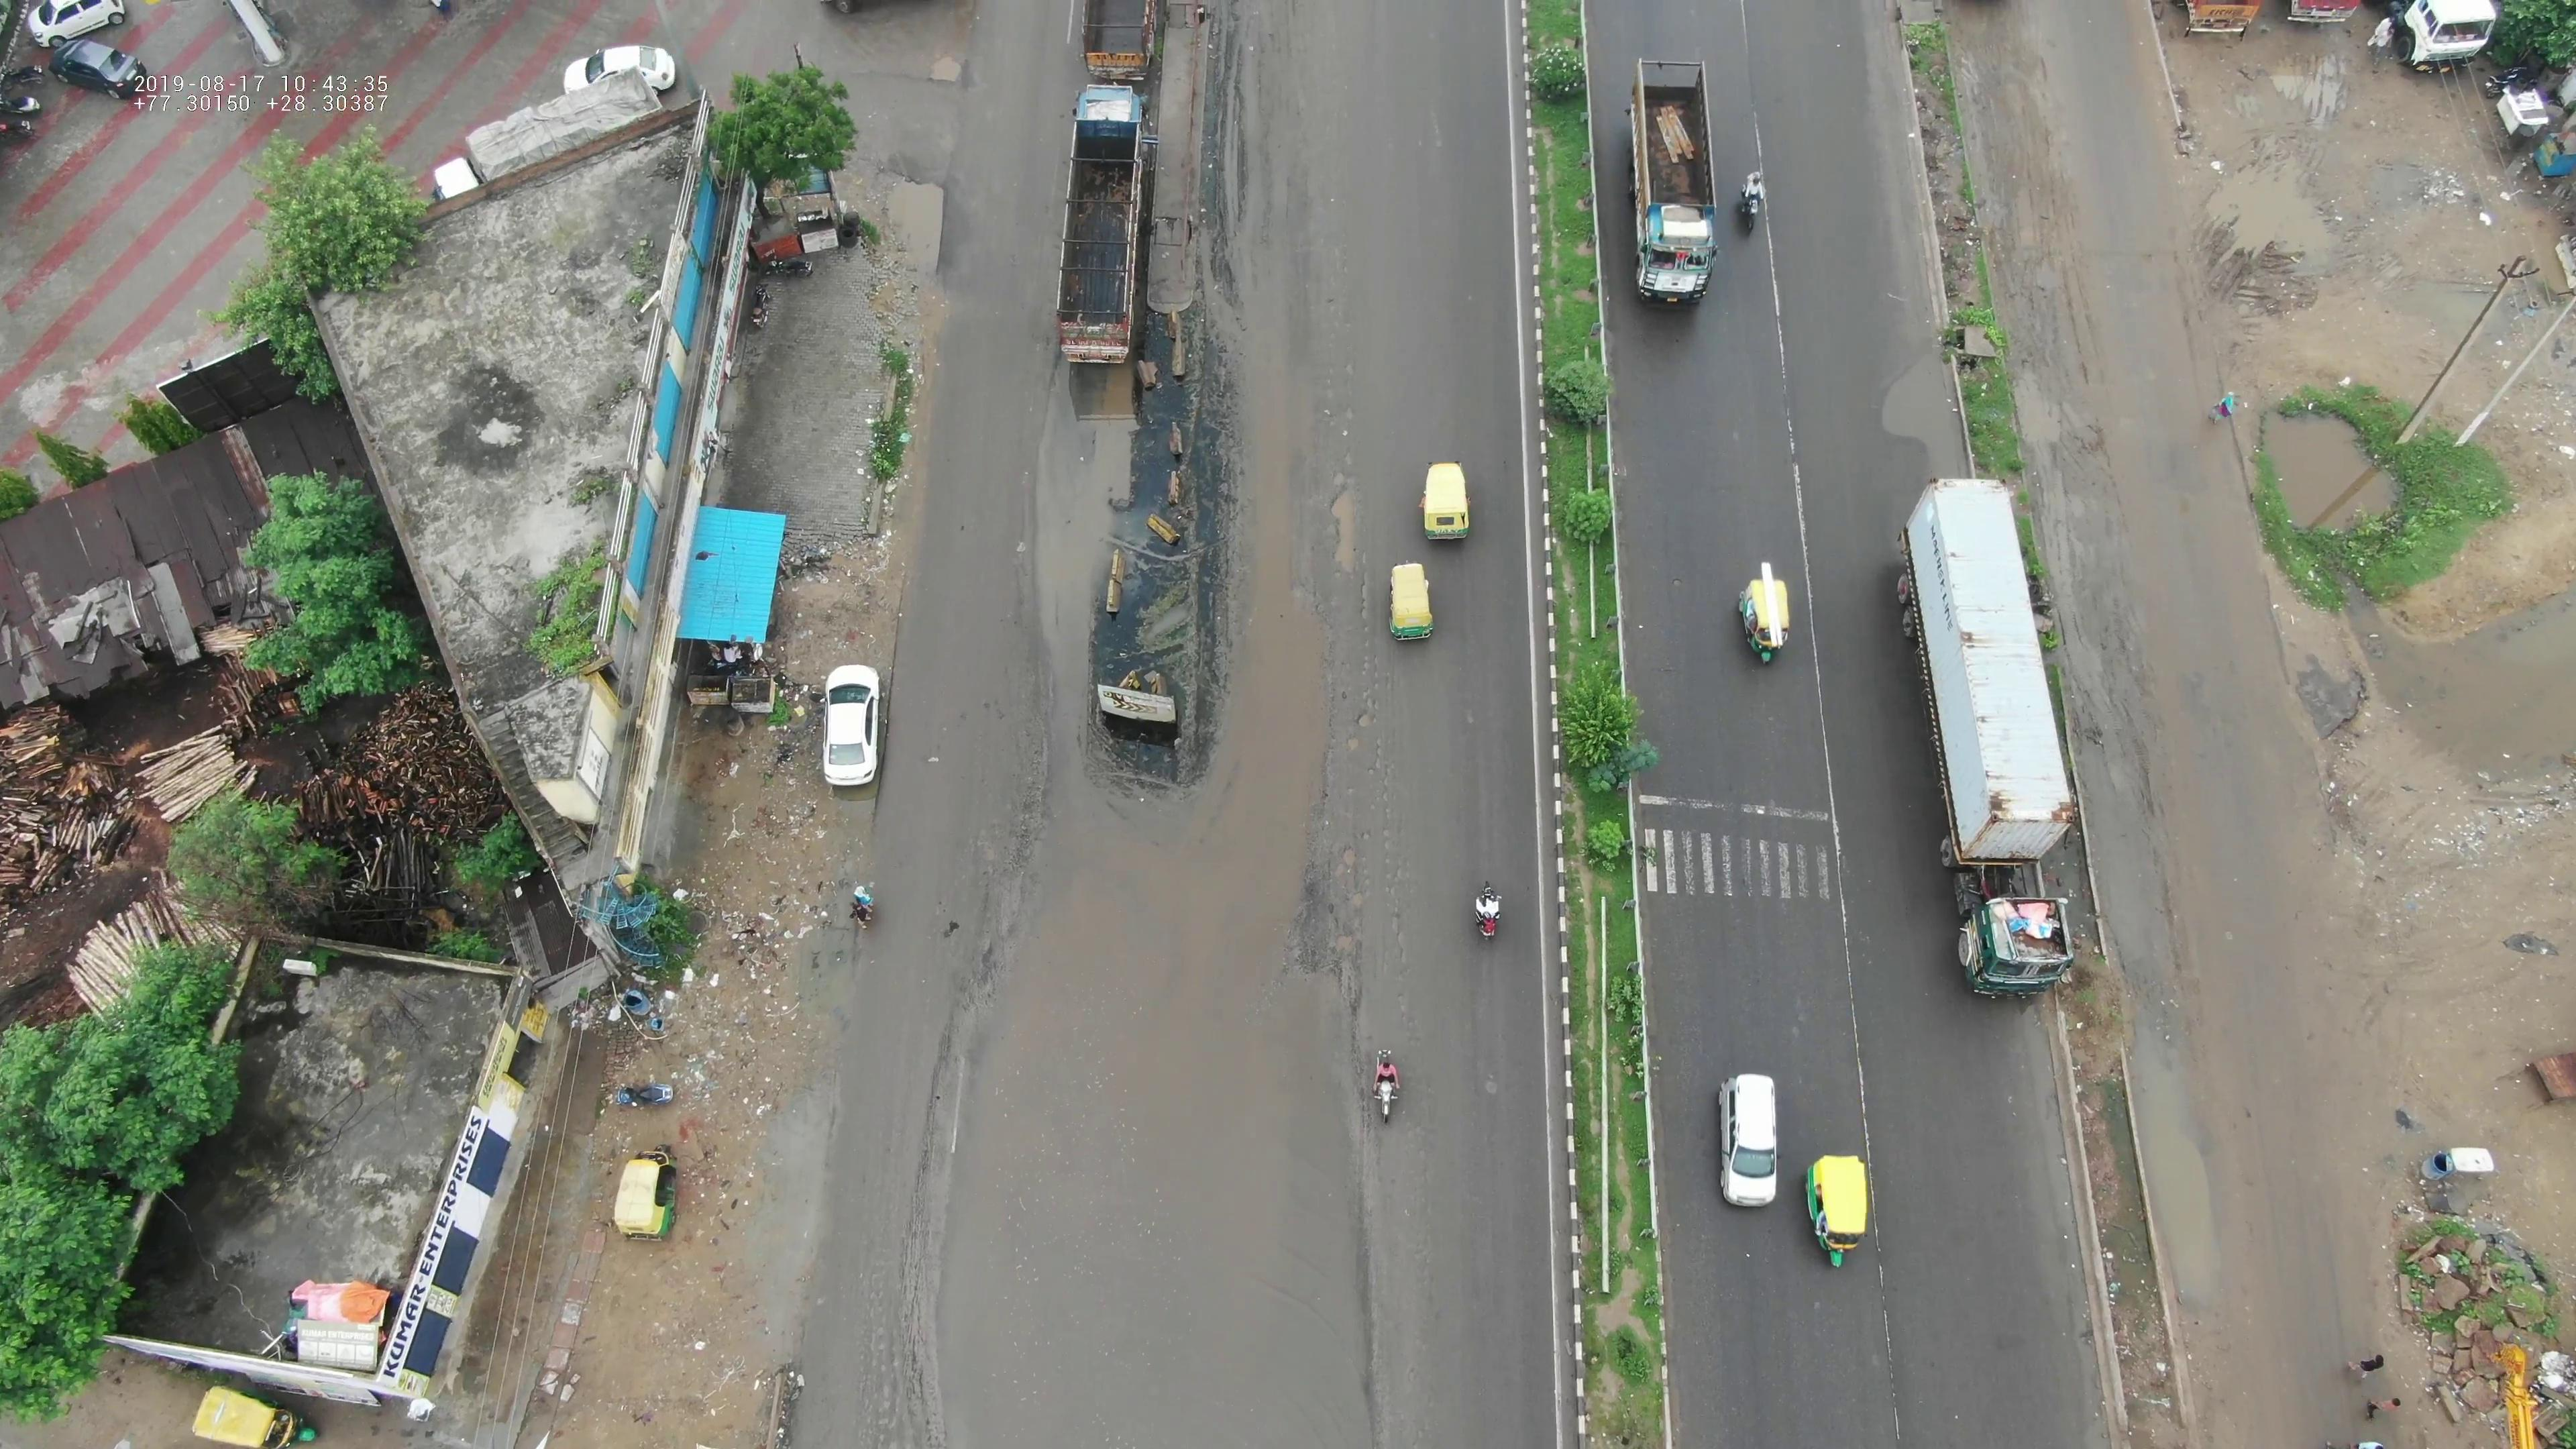Muddy_road: (2045, 531, 2180, 892), (1994, 168, 2120, 531), (1196, 58, 1341, 363)
Potholes: (1309, 655, 1408, 959), (1292, 370, 1382, 635), (860, 168, 984, 297), (890, 32, 991, 101)
Waterlogging: (885, 962, 1396, 1415), (991, 708, 1338, 925)
